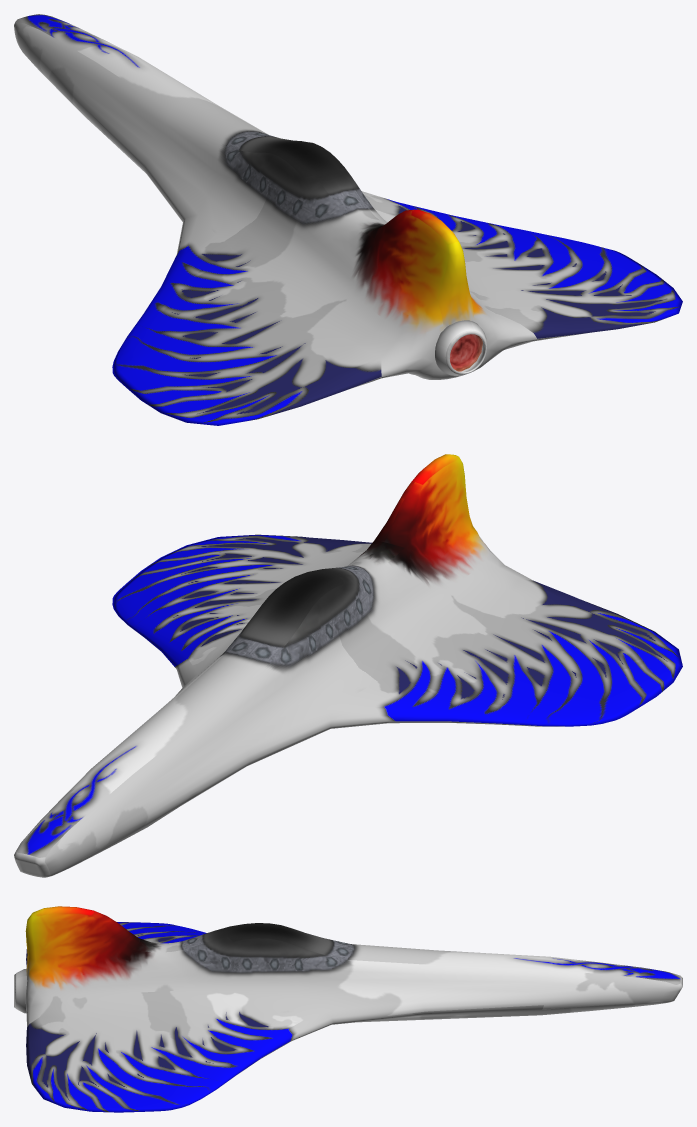
File: Fighter.fbx
The picture shows the model from 3 angles, top to bottom: view 1: azimuth 30°, elevation 25°; view 2: azimuth 150°, elevation 25°; view 3: azimuth 270°, elevation 25°; orthographic projection. The views are drawn at different scales.
Visible parts, largest first — view 1: polySurface1; view 2: polySurface1; view 3: polySurface1.
Boxes of the visible parts, x1,y1,x2,y2 form: polySurface1: [14, 14, 682, 425]; polySurface1: [14, 454, 682, 877]; polySurface1: [14, 906, 682, 1112].
Size of the model in its own units: 12.86 by 3.56 by 19.07.
1 material, 1 textured.
